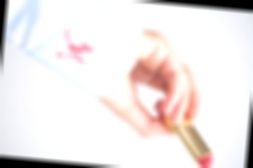lipstick: (53, 30, 99, 67), (67, 36, 114, 59), (67, 39, 93, 57)
